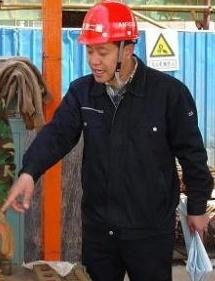gloves: (0, 207, 15, 260), (0, 209, 13, 252)
hard-hat: (77, 1, 140, 46)
ppe-suit: (0, 77, 70, 267)
